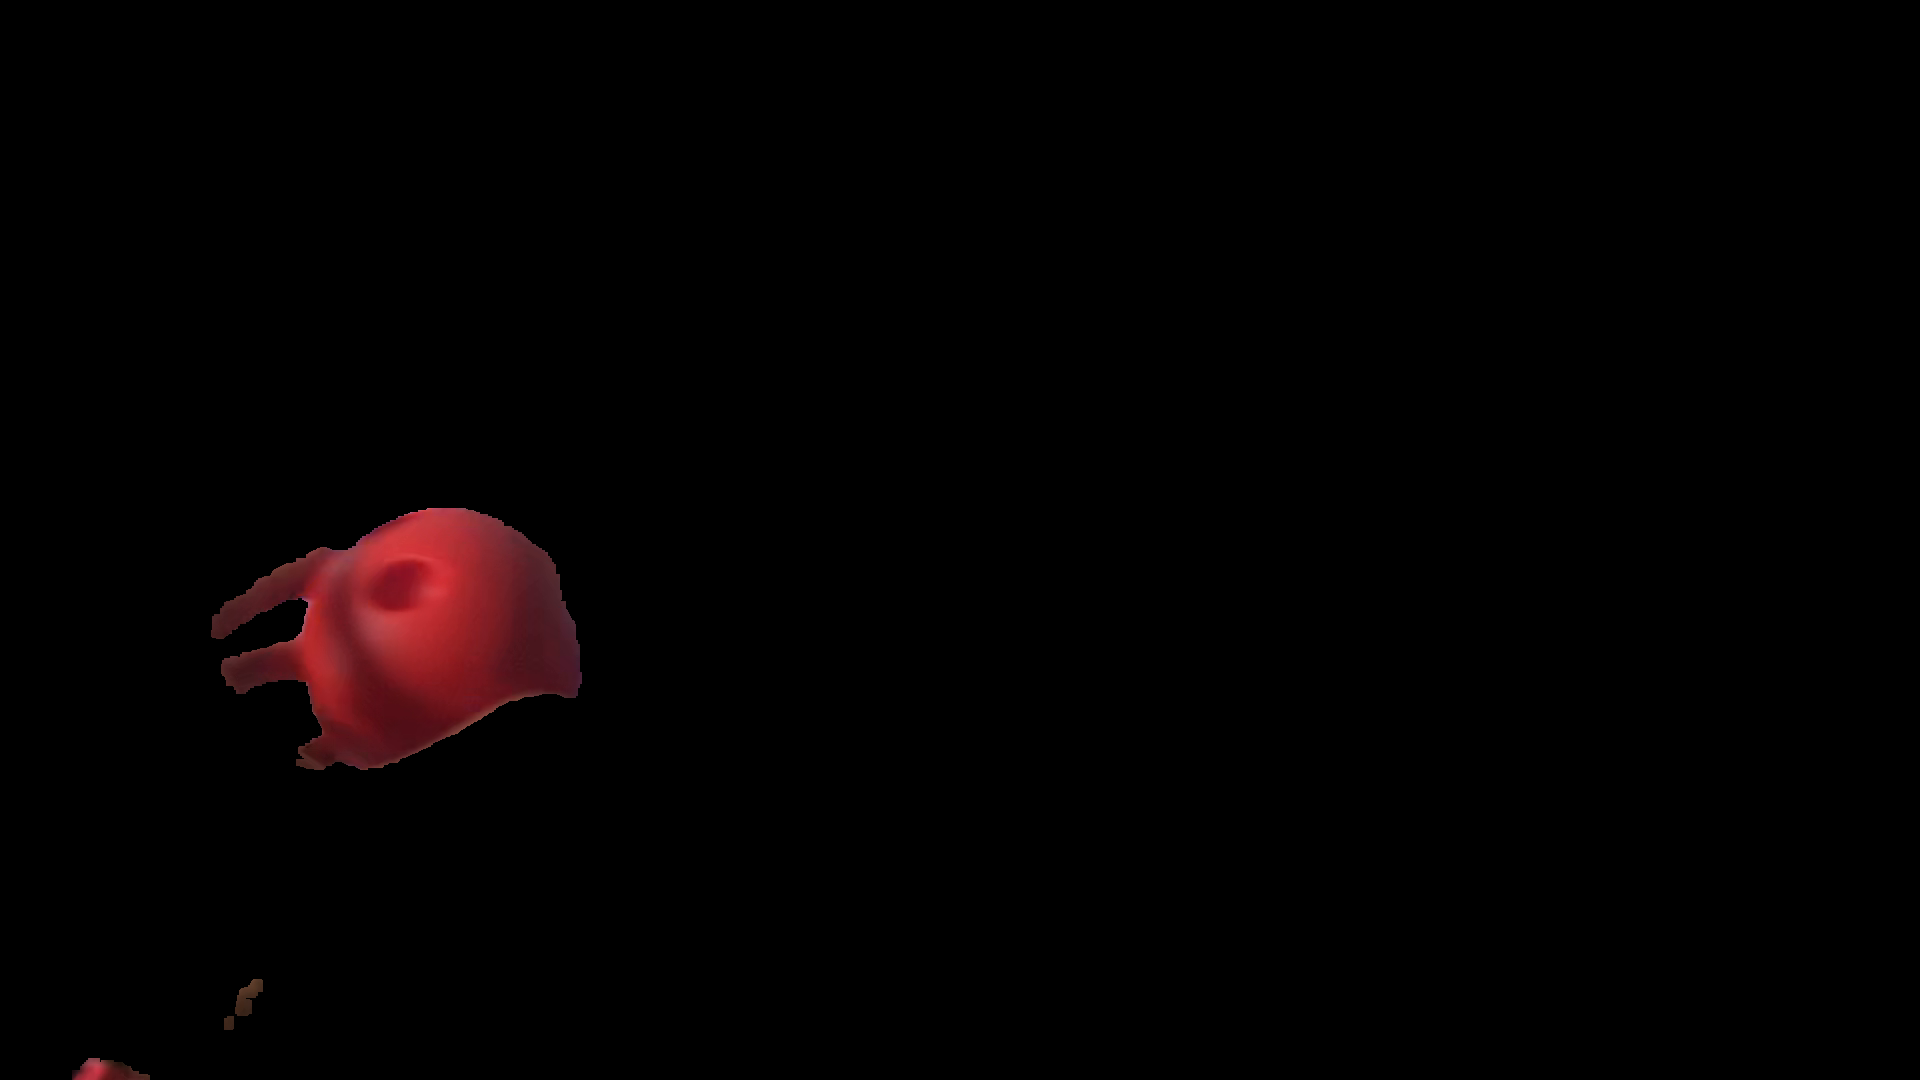Ball: (307, 506, 585, 779)
